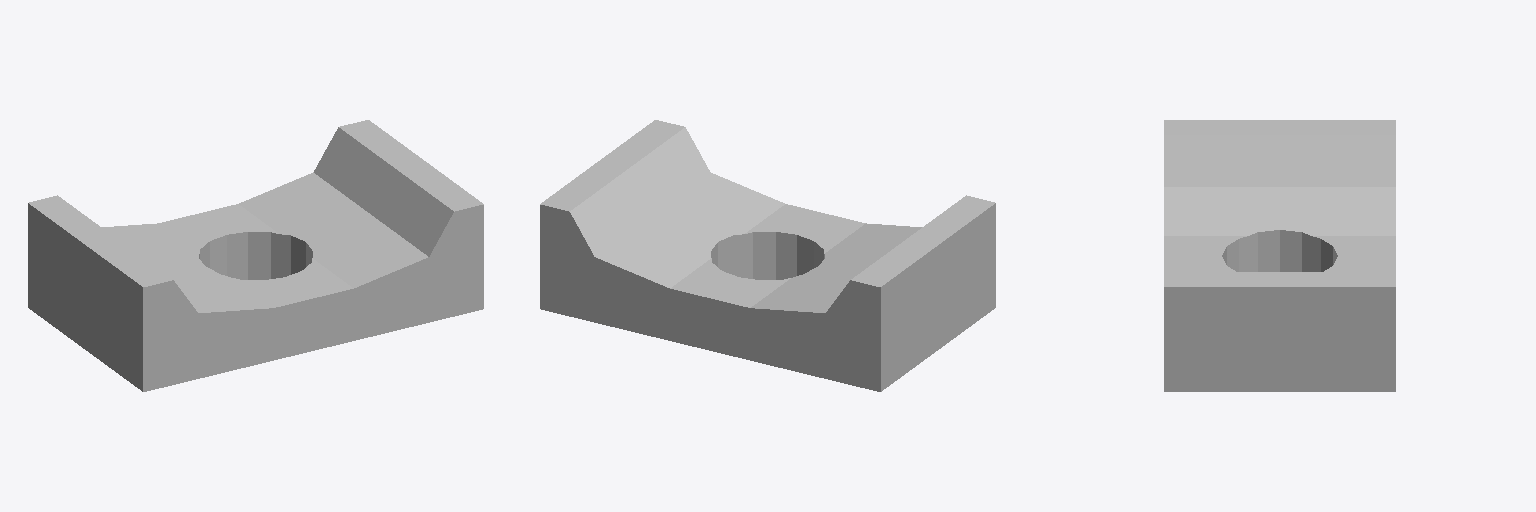
File: straight-wide-hole.obj
The picture shows the model from 3 angles: view 1: azimuth 30°, elevation 25°; view 2: azimuth 150°, elevation 25°; view 3: azimuth 270°, elevation 25°; orthographic projection.
Visible parts, largest first — view 1: straight-wide-hole; view 2: straight-wide-hole; view 3: straight-wide-hole.
Part boxes in pixels (x1,y1,x2,y2): straight-wide-hole: (28,120,483,391); straight-wide-hole: (540,120,995,391); straight-wide-hole: (1164,120,1395,391).
Bounding box in the file's own units: 1.7 × 0.5 × 1.